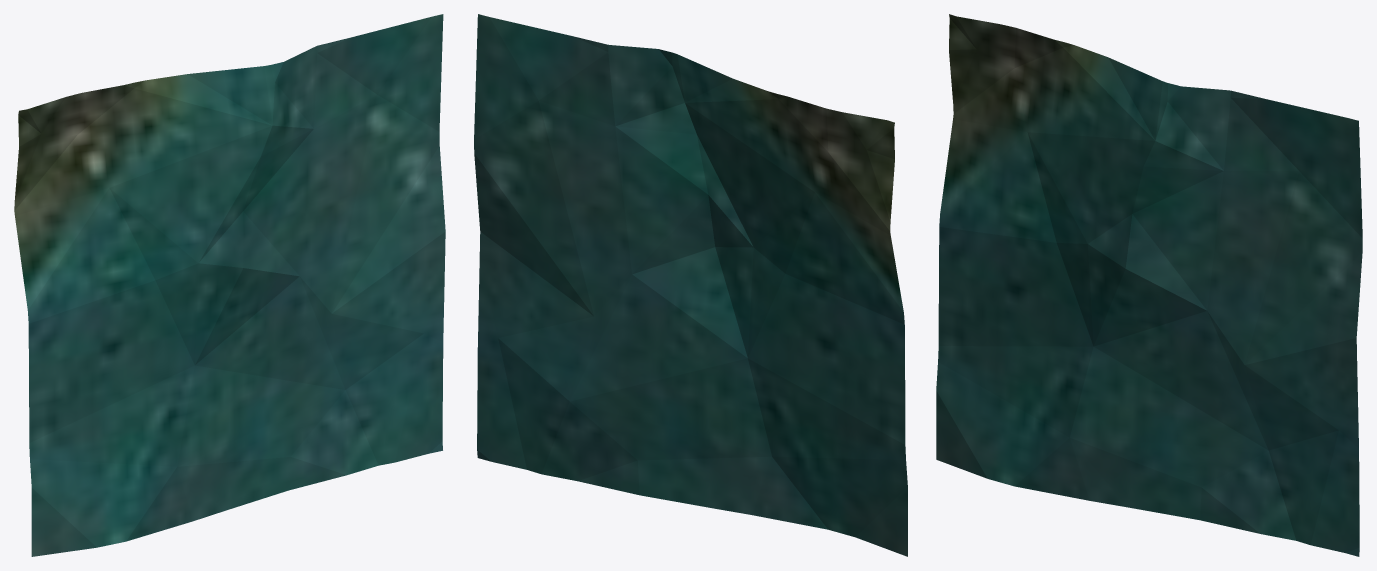
The model's file is Tile_+001_+005_L24_0020230.obj.
3 views of the same model, side by side, from view 1: azimuth 30°, elevation 25°; view 2: azimuth 150°, elevation 25°; view 3: azimuth 330°, elevation 25° (orthographic).
Size of the model in its own units: 0.9531 by 0.9531 by 0.1123.
1 material, 1 textured.
